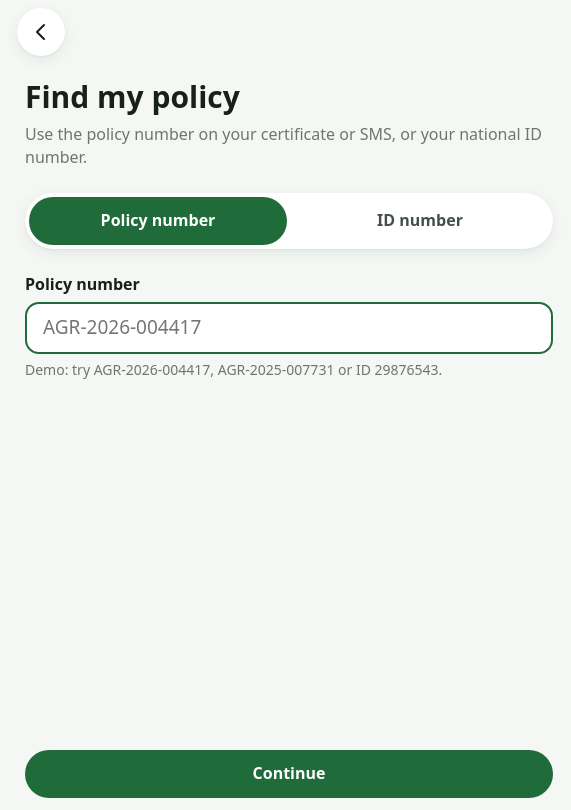
Test case: the message for an unknown ID is identical
This screenshot has width=571, height=810.
Click the radio button labelled "ID number" at x=420, y=221, box [291,197,549,245]
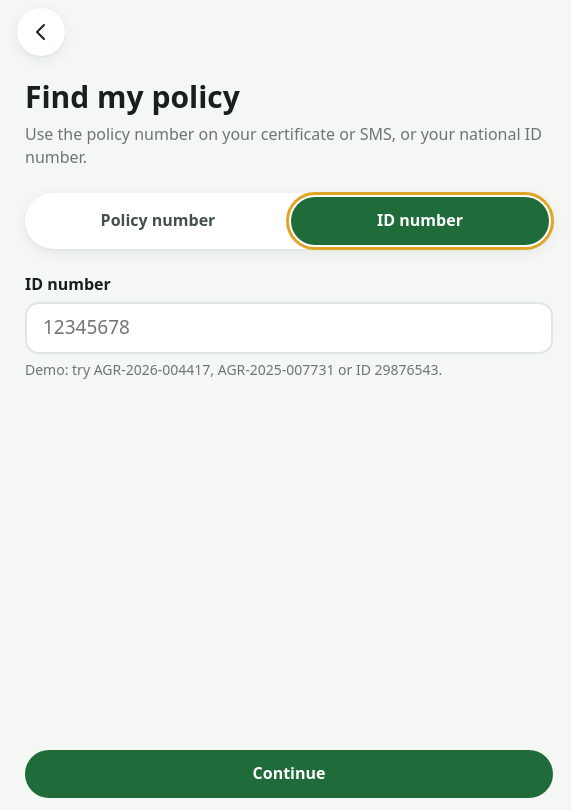
Type "11111111" into the field labelled "ID number" at x=289, y=328, box [25,302,553,354]
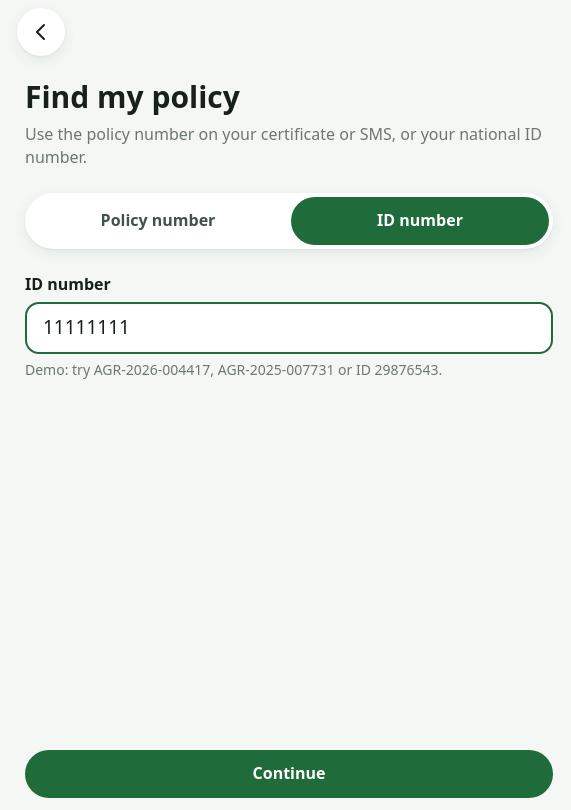
Click the button "Continue" at x=289, y=774, box [25,750,553,798]
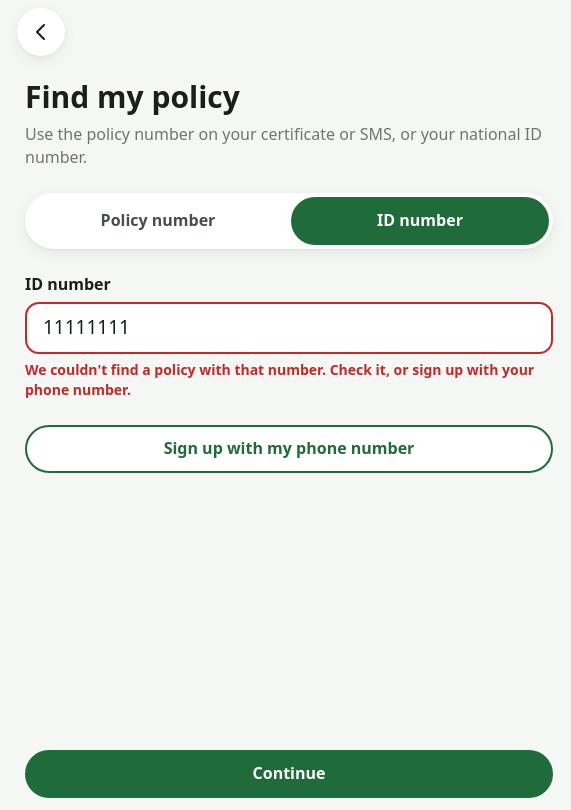
expect the message shows "We couldn't find a policy with that number.": met, box [25,360,534,399]
